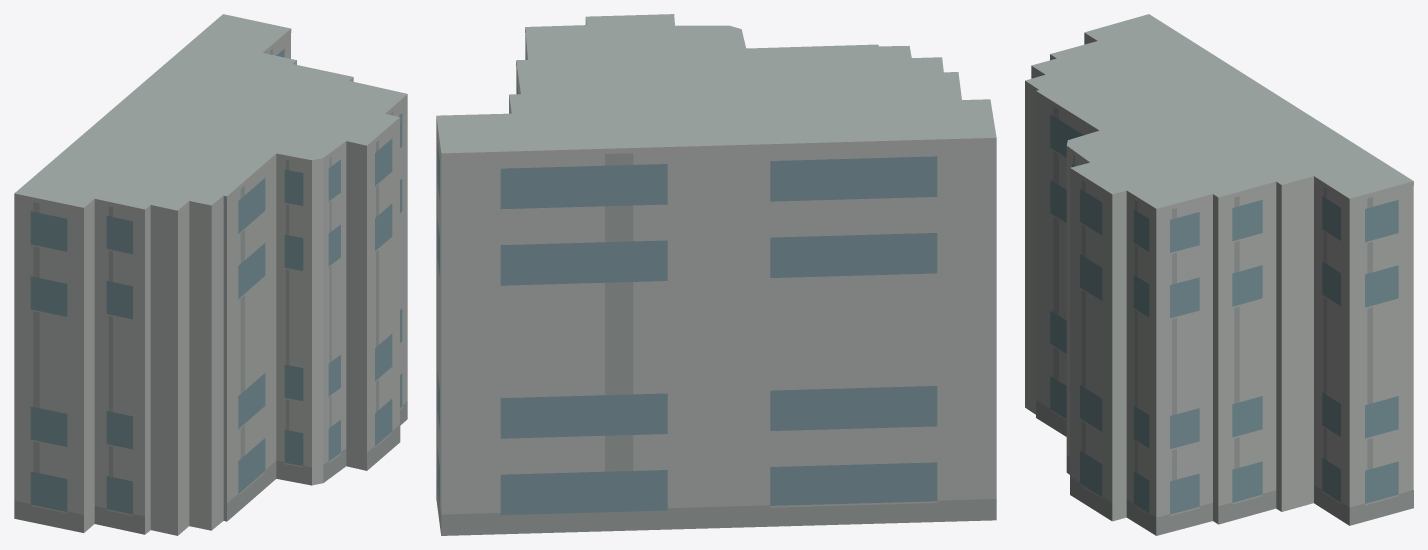
File: survey-upis-32932118.glb
The picture shows the model from 3 angles, left to right: view 1: azimuth 30°, elevation 25°; view 2: azimuth 150°, elevation 25°; view 3: azimuth 270°, elevation 25°; orthographic projection. The views are drawn at different scales.
Visible parts, largest first — view 1: survey-upis-32932118.tmp; view 2: survey-upis-32932118.tmp; view 3: survey-upis-32932118.tmp.
Part boxes in pixels (x1,y1,x2,y2): survey-upis-32932118.tmp: (14,14,407,535); survey-upis-32932118.tmp: (436,14,996,535); survey-upis-32932118.tmp: (1025,14,1413,535).
Bounding box in the file's own units: 22.76 × 17.8 × 19.18.
